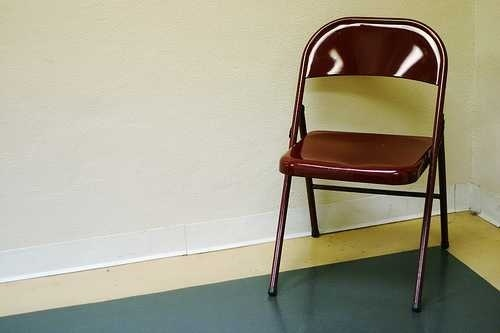obstacle: (268, 17, 448, 310)
